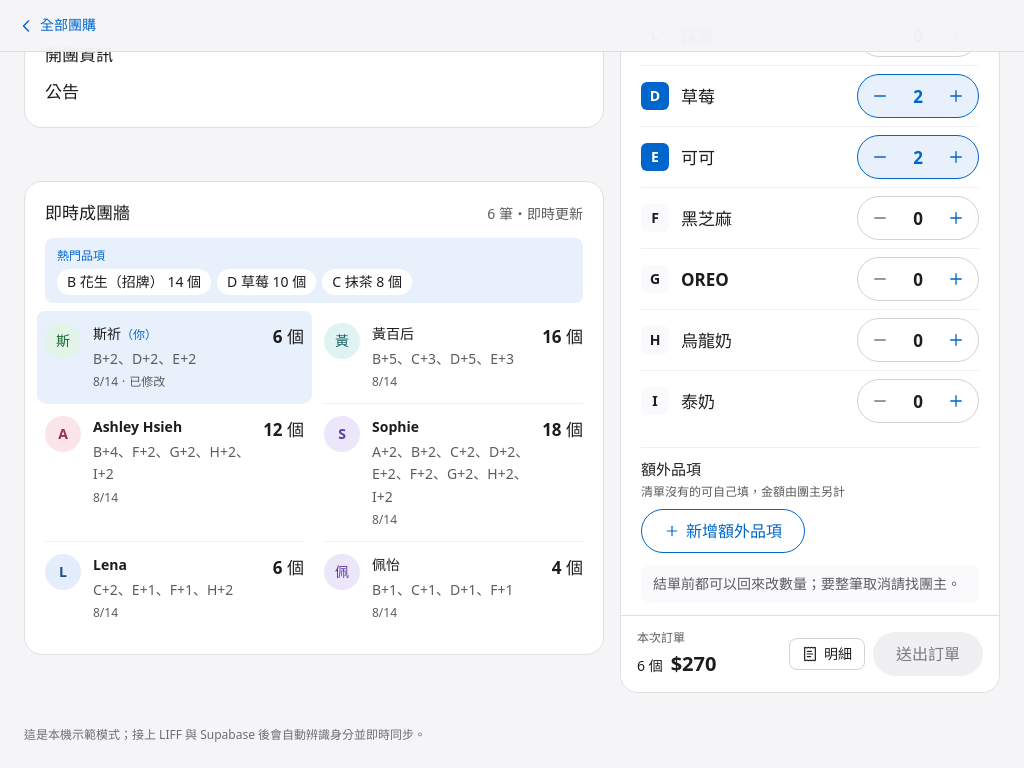
customer campaign app › warns when an extra-item draft is missing its name, then clears the warning once it is filled in
This screenshot has width=1024, height=768.
(page scrolled)
Click the button "新增額外品項".
click(723, 531)  # box [641, 509, 805, 553]
(page scrolled)
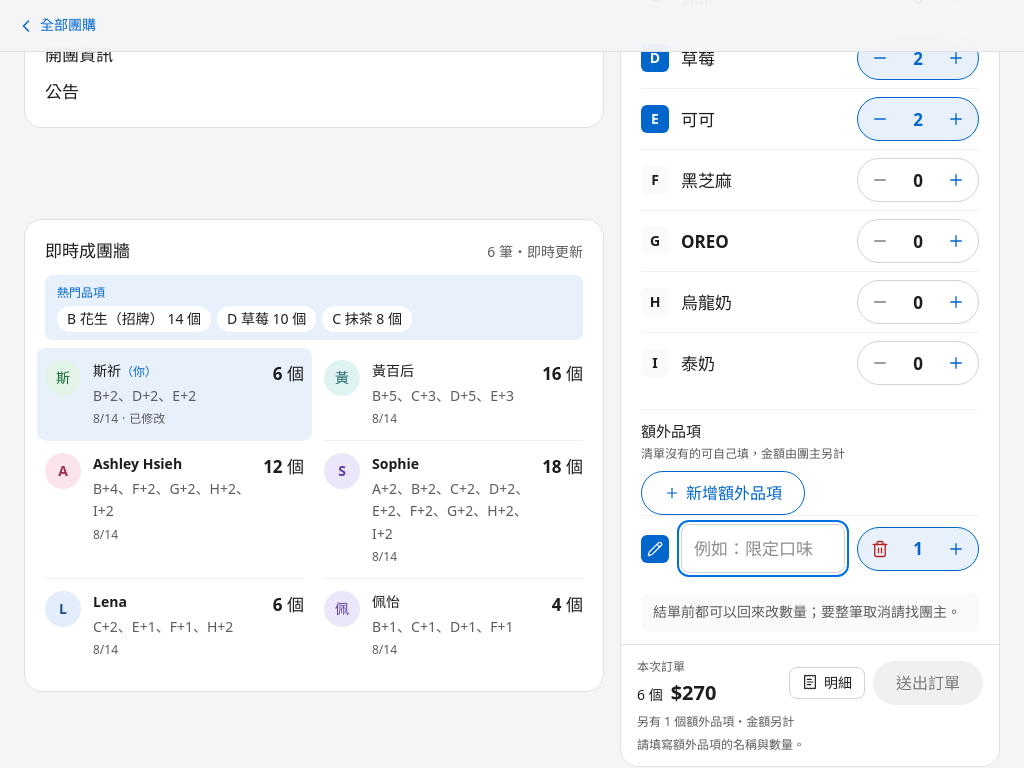
Expected: the button "送出訂單" is disabled, [873, 660, 983, 704]
Expected: the text "請填寫額外品項的名稱與數量。" is shown, [637, 736, 805, 753]
Type "限定蛋糕" into the field named "額外品項 1 名稱".
click(763, 549); type("限定蛋糕")  # box [681, 524, 845, 573]
(page scrolled)
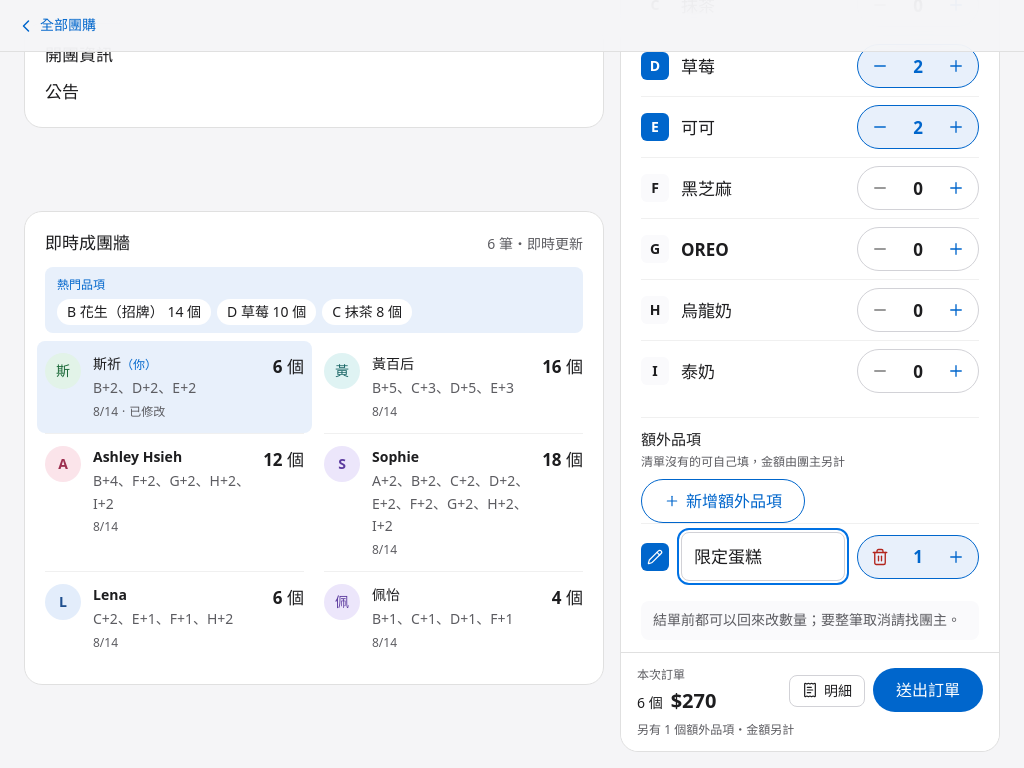
Expected: the text "請填寫額外品項的名稱與數量。" is gone
Expected: the button "送出訂單" is enabled, [873, 668, 983, 712]
